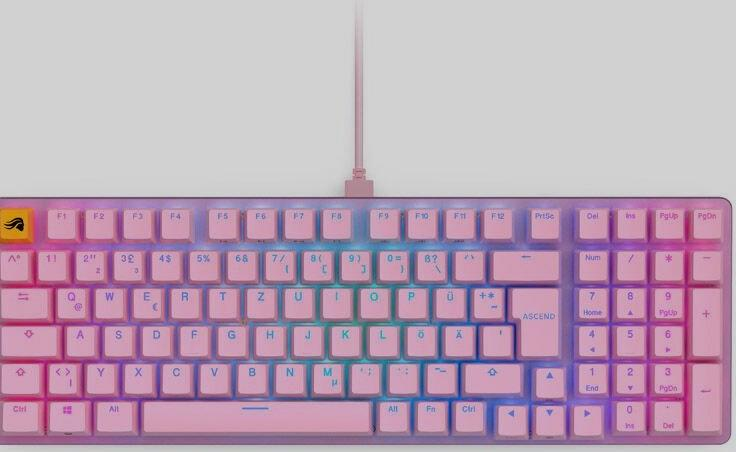0: (377, 248, 409, 281)
1: (36, 248, 67, 280)
2: (74, 248, 106, 280)
3: (112, 248, 144, 280)
4: (150, 248, 181, 280)
5: (187, 248, 219, 280)
6: (225, 247, 258, 281)
7: (263, 248, 295, 281)
8: (300, 248, 334, 281)
9: (339, 248, 371, 281)
a: (64, 323, 95, 356)
accent: (451, 248, 483, 281)
ae: (442, 323, 474, 356)
alt-left: (93, 399, 133, 431)
altgr-right: (376, 399, 408, 432)
b: (235, 360, 267, 393)
c: (160, 361, 192, 393)
caret: (1, 248, 29, 280)
comma: (349, 361, 381, 393)
d: (140, 323, 171, 356)
del: (490, 248, 558, 279)
e: (131, 285, 162, 318)
enter: (508, 284, 559, 358)
f: (178, 323, 208, 355)
g: (216, 323, 246, 356)
h: (253, 323, 285, 356)
hash: (480, 322, 513, 357)
i: (321, 286, 351, 317)
j: (291, 323, 322, 356)
k: (328, 323, 361, 356)
keyboard: (1, 190, 734, 449)
l: (366, 324, 398, 356)
less: (45, 360, 78, 393)
m: (310, 361, 343, 394)
minus: (424, 361, 456, 393)
n: (273, 361, 305, 393)
o: (357, 286, 389, 318)
oe: (404, 324, 436, 356)
p: (395, 285, 427, 317)
plus: (470, 285, 504, 318)
point: (387, 361, 418, 393)
q: (54, 285, 87, 318)
r: (168, 286, 200, 318)
s: (102, 323, 133, 356)
shift-left: (1, 361, 40, 393)
shift-lock: (1, 323, 57, 356)
shift-right: (462, 361, 521, 393)
space: (138, 397, 371, 432)
ss: (414, 248, 447, 281)
strg-left: (1, 399, 40, 432)
strg-right: (452, 399, 485, 432)
t: (207, 285, 238, 317)
tab: (1, 286, 49, 317)
u: (282, 285, 314, 318)
ue: (433, 285, 465, 318)
v: (197, 361, 229, 393)
w: (93, 286, 124, 318)
x: (122, 361, 153, 393)
y: (84, 361, 115, 393)
z: (245, 285, 276, 317)
